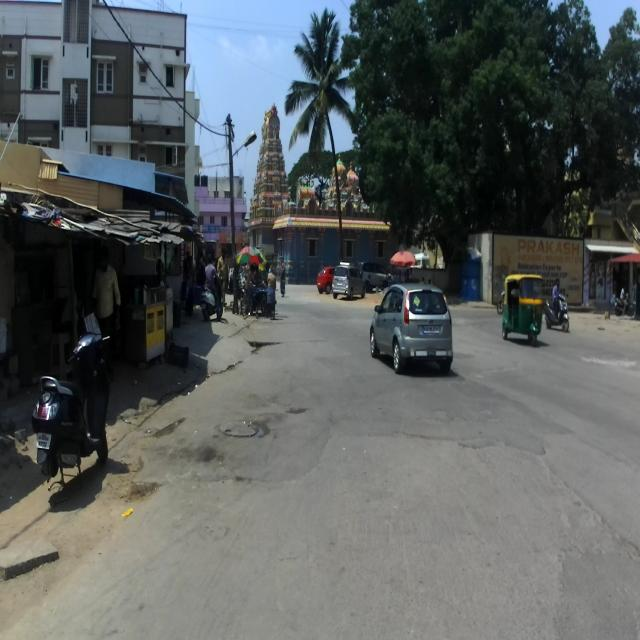Car_Ford: (369, 283, 453, 374)
Car_Maruti-Suzuki: (331, 263, 367, 300)
scooter: (31, 326, 112, 512), (198, 279, 226, 319), (544, 294, 569, 331)
